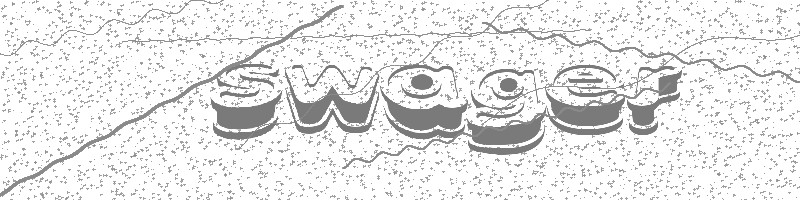a: (379, 61, 469, 140)
e: (544, 61, 625, 137)
g: (468, 69, 547, 155)
r: (626, 60, 685, 139)
s: (207, 57, 285, 142)
w: (282, 60, 380, 137)
